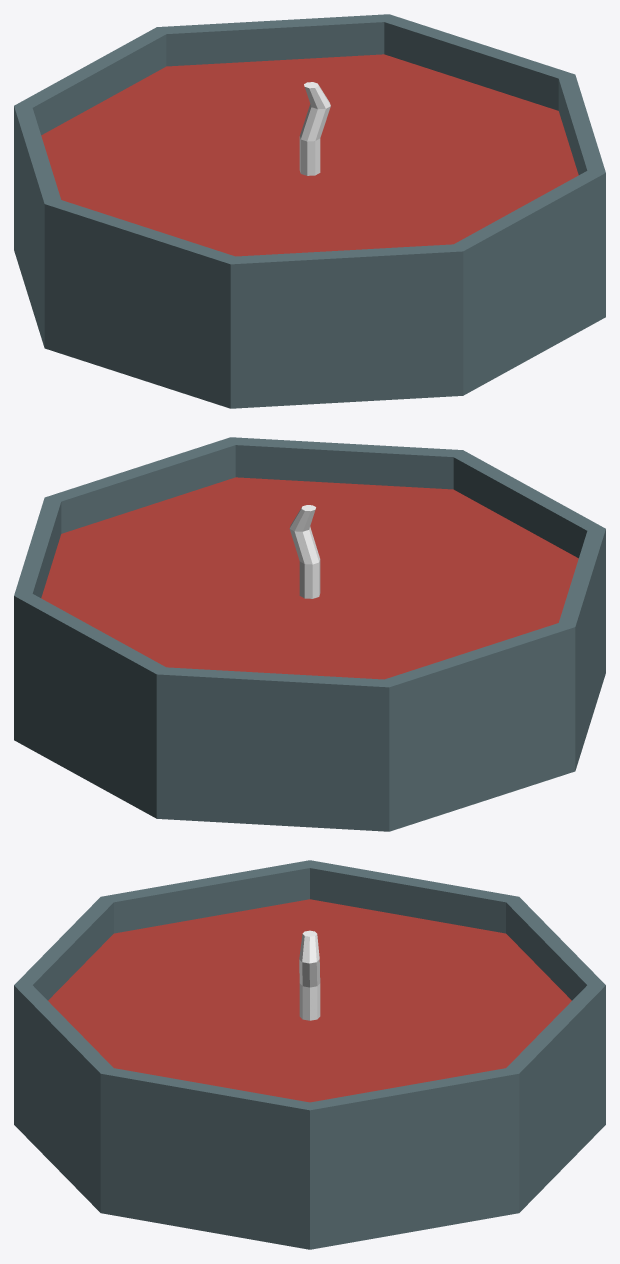
File: Candle.fbx
The picture shows the model from 3 angles, top to bottom: view 1: azimuth 30°, elevation 25°; view 2: azimuth 150°, elevation 25°; view 3: azimuth 270°, elevation 25°; orthographic projection. The views are drawn at different scales.
Parts seen in each view (by area): view 1: Cylinder; view 2: Cylinder; view 3: Cylinder.
Boxes of the visible parts, bbox=[...] form: Cylinder: bbox=[14, 14, 605, 408]; Cylinder: bbox=[14, 437, 605, 831]; Cylinder: bbox=[14, 860, 605, 1249].
Bounding box in the file's own units: 200 × 71.41 × 200.
Materials: 1 (1 with a texture image).
